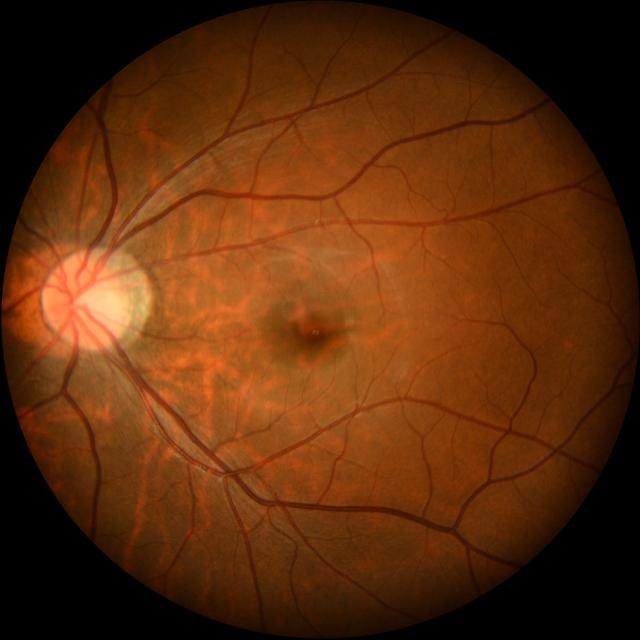OC: (76, 286, 113, 316)
OD: (42, 252, 126, 349)
